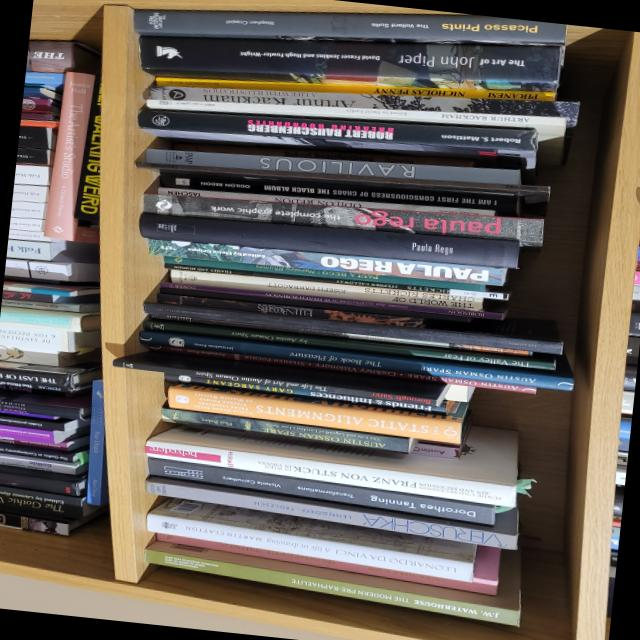book: (141, 391, 521, 507), (140, 512, 526, 626), (142, 73, 565, 165), (136, 310, 575, 390), (132, 142, 549, 217), (143, 492, 478, 583), (141, 471, 519, 549), (152, 511, 499, 595), (134, 108, 538, 173), (144, 454, 496, 525), (138, 34, 561, 92), (141, 186, 543, 247), (141, 301, 562, 354), (137, 211, 518, 269), (142, 317, 555, 370), (111, 347, 448, 407), (147, 343, 537, 394), (146, 84, 578, 128), (165, 382, 470, 444), (158, 166, 521, 217), (146, 237, 506, 287), (132, 8, 566, 46), (144, 147, 521, 185), (167, 268, 483, 312), (157, 281, 507, 320), (162, 262, 508, 301), (40, 70, 115, 244), (210, 317, 531, 357), (163, 373, 459, 416), (163, 254, 485, 293), (165, 254, 485, 293), (159, 406, 417, 454), (157, 290, 427, 330), (155, 186, 495, 217), (155, 76, 554, 102), (74, 77, 113, 221), (79, 380, 108, 506), (409, 438, 463, 459), (150, 314, 188, 321)
